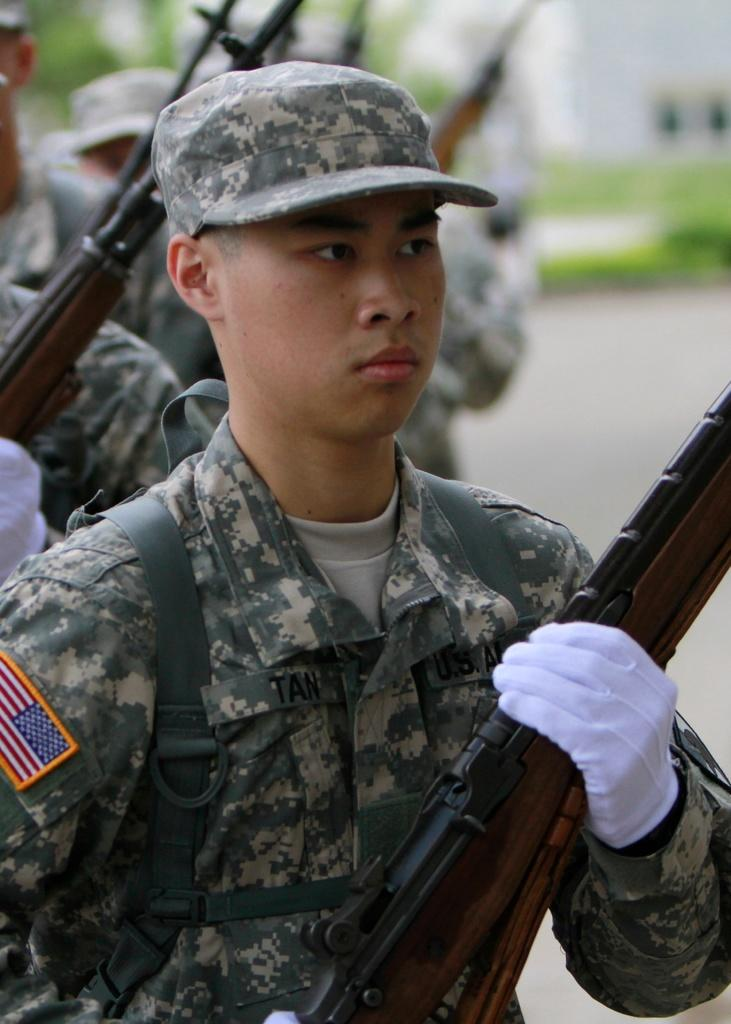Rifle: (302, 385, 730, 1023), (0, 0, 307, 458)
